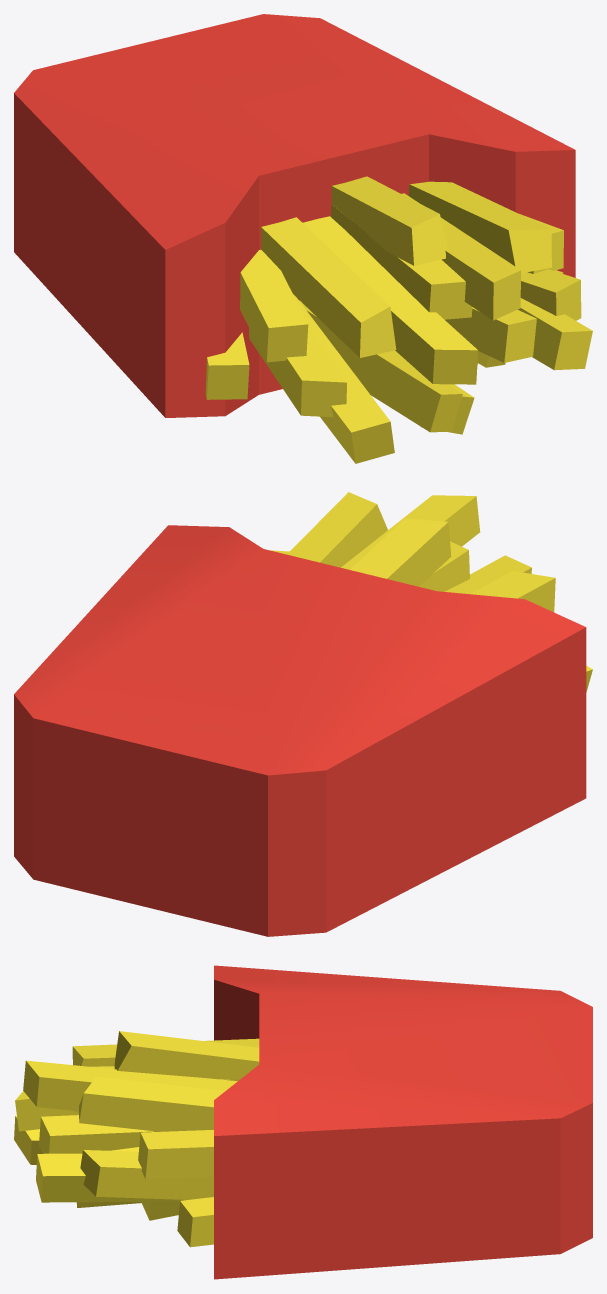
3 views of the same model, one above another, from view 1: azimuth 30°, elevation 25°; view 2: azimuth 150°, elevation 25°; view 3: azimuth 270°, elevation 25° (orthographic). The views are drawn at different scales.
Visible parts, largest first — view 1: pCube95; view 2: pCube95; view 3: pCube95.
Part boxes in pixels (box(x1,y1,x2,y2)): pCube95: box(14, 14, 592, 463); pCube95: box(14, 492, 592, 936); pCube95: box(14, 965, 592, 1279).
Bounding box in the file's own units: 92.08 × 46.97 × 132.
